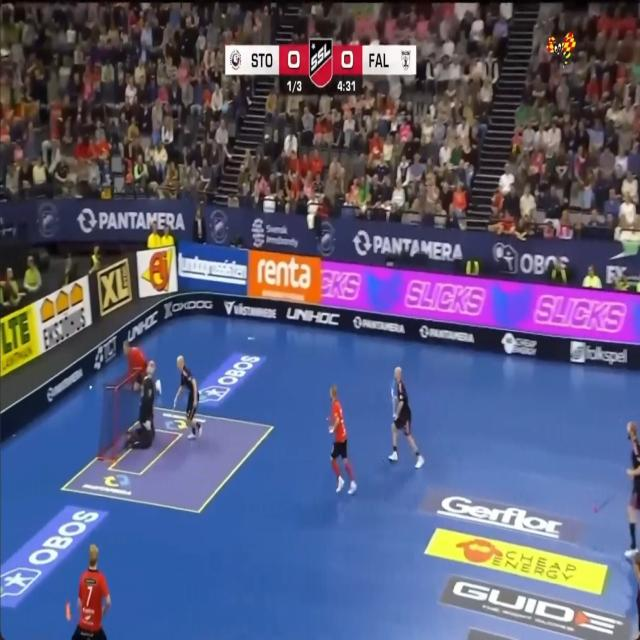Balls: (89, 385, 92, 389)
player: (72, 544, 111, 639), (388, 366, 424, 468), (329, 385, 356, 494), (126, 360, 156, 449), (173, 355, 200, 439), (625, 421, 640, 558), (123, 341, 147, 390), (155, 379, 161, 395)
